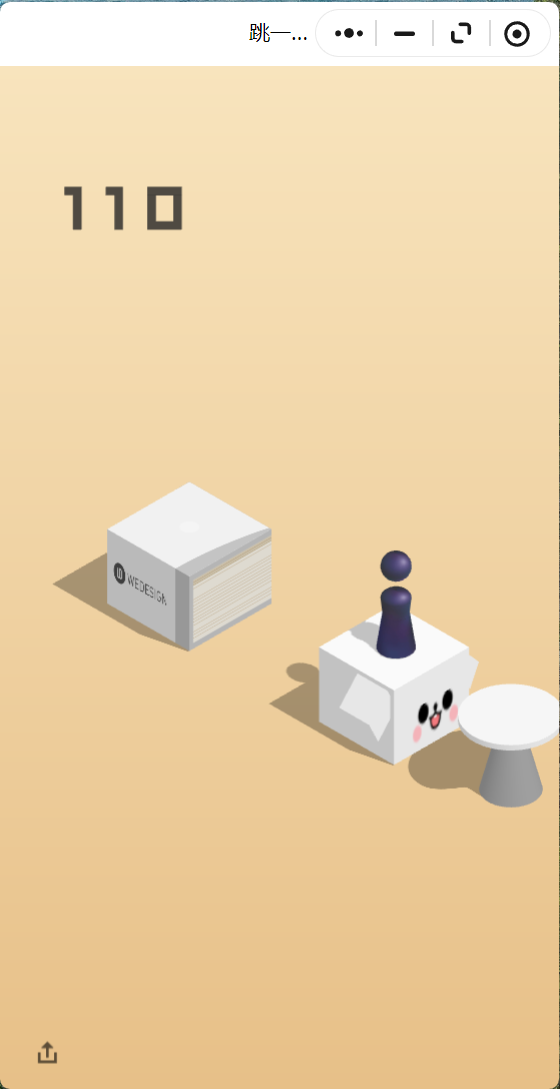piece: (381, 550, 412, 655)
target: (107, 483, 272, 576)
